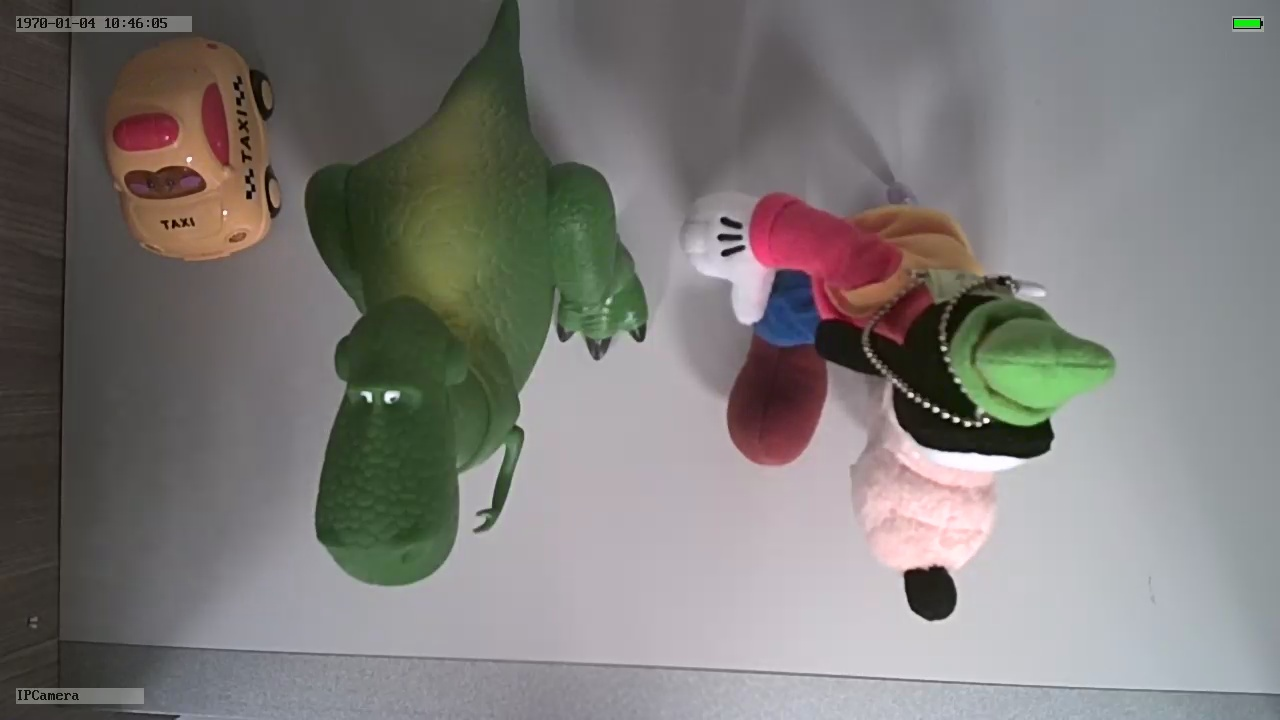car: (101, 36, 288, 264)
goofy: (675, 190, 1119, 626)
rex: (303, 68, 647, 586)
